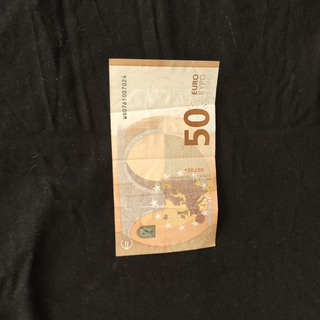50EUROBack: (107, 57, 221, 257)
